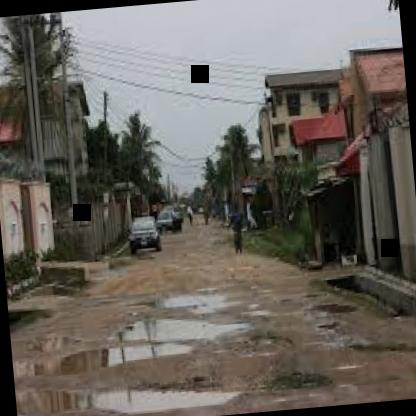car: (126, 216, 162, 260), (151, 204, 187, 236)
